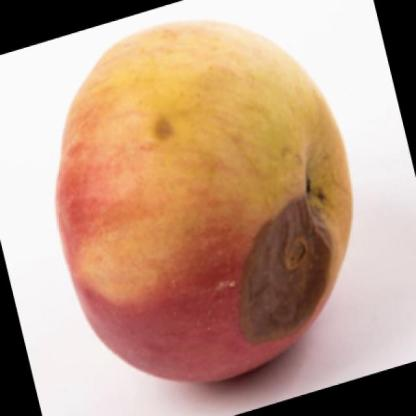defect: (218, 194, 348, 352), (142, 100, 182, 150)
